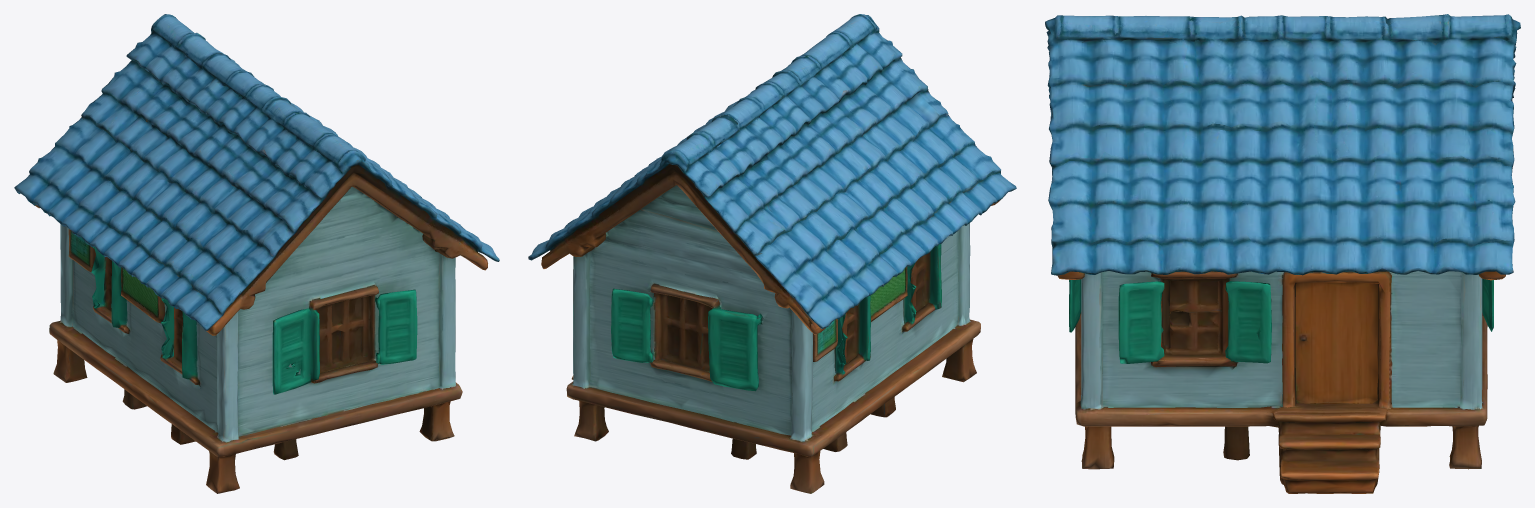
The model's file is stilt_blue.glb.
3 renders of one model, left to right at view 1: azimuth 30°, elevation 25°; view 2: azimuth 150°, elevation 25°; view 3: azimuth 270°, elevation 25°, orthographic. The views are drawn at different scales.
Bounding box in the file's own units: 0.8987 × 0.889 × 0.9886.
Materials: 1 (1 with a texture image).
